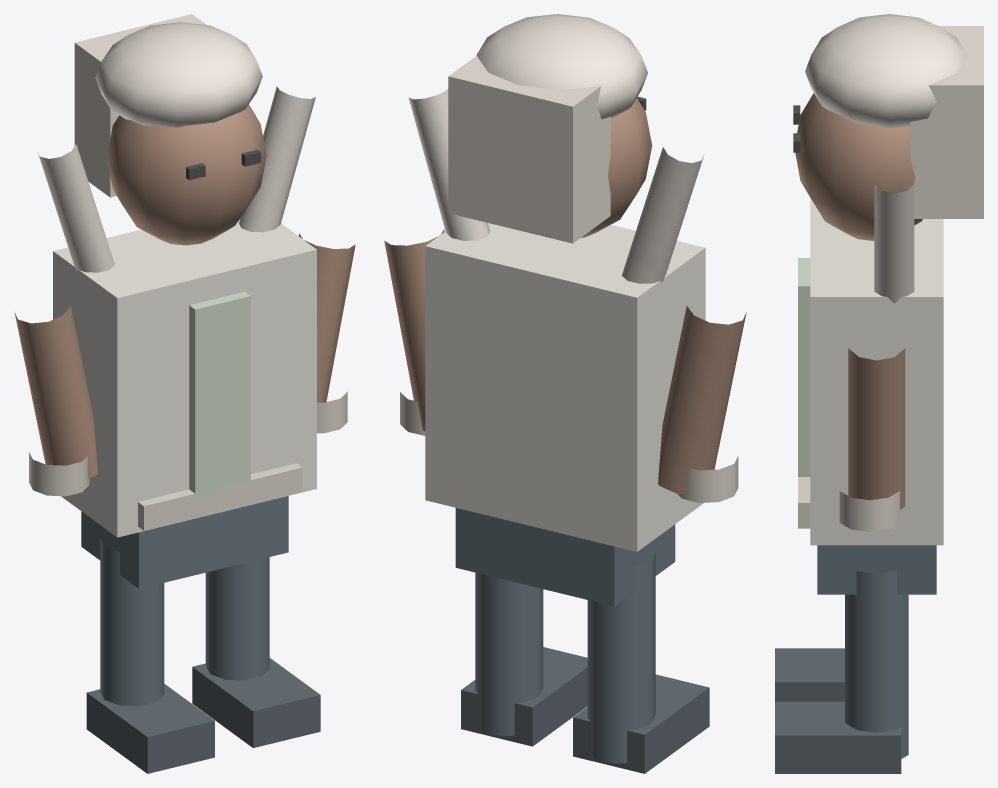
The model's file is ekko.glb.
3 views of the same model, side by side, from view 1: azimuth 30°, elevation 25°; view 2: azimuth 150°, elevation 25°; view 3: azimuth 270°, elevation 25° (orthographic). The views are drawn at different scales.
Visible parts, largest first — view 1: Torso, Head, HairCap, Vest, Pelvis, ArmL, LegL, FootR, FootL, LegR, HairBack, HairR (+5 smaller); view 2: Torso, HairBack, Pelvis, HairCap, LegL, ArmL, LegR, FootL, HairL, FootR, ArmR, Head (+3 smaller); view 3: Torso, HairCap, Head, HairBack, LegR, ArmR, FootR, Pelvis, HairR, FootL, Vest, CuffR (+1 smaller).
Boxes of the visible parts, <box> form: Torso: <box>53,219,316,537</box>; Head: <box>106,104,266,245</box>; HairCap: <box>95,22,262,127</box>; Vest: <box>189,291,250,499</box>; Pelvis: <box>81,496,288,588</box>; ArmL: <box>14,306,97,478</box>; LegL: <box>100,539,164,706</box>; FootR: <box>192,658,320,747</box>; FootL: <box>86,684,214,773</box>; LegR: <box>205,557,269,680</box>; HairBack: <box>74,14,206,197</box>; HairR: <box>239,86,315,232</box>; Torso: <box>425,223,705,551</box>; HairBack: <box>448,56,610,243</box>; Pelvis: <box>455,508,675,606</box>; HairCap: <box>476,14,647,119</box>; LegL: <box>587,553,655,763</box>; ArmL: <box>658,306,746,493</box>; LegR: <box>475,572,543,736</box>; FootL: <box>573,674,709,773</box>; HairL: <box>622,147,703,283</box>; FootR: <box>461,647,587,746</box>; ArmR: <box>384,229,444,431</box>; Head: <box>581,98,652,237</box>; Torso: <box>810,198,943,545</box>; HairCap: <box>805,14,967,128</box>; Head: <box>795,93,922,240</box>; HairBack: <box>910,26,983,218</box>; LegR: <box>845,571,908,758</box>; ArmR: <box>848,348,905,510</box>; FootR: <box>775,701,901,773</box>; Pelvis: <box>817,545,936,594</box>; HairR: <box>874,184,914,303</box>; FootL: <box>775,648,844,701</box>; Vest: <box>798,258,810,476</box>; CuffR: <box>839,491,899,531</box>.
Size of the model in its own units: 1.14 by 2.21 by 0.595.
